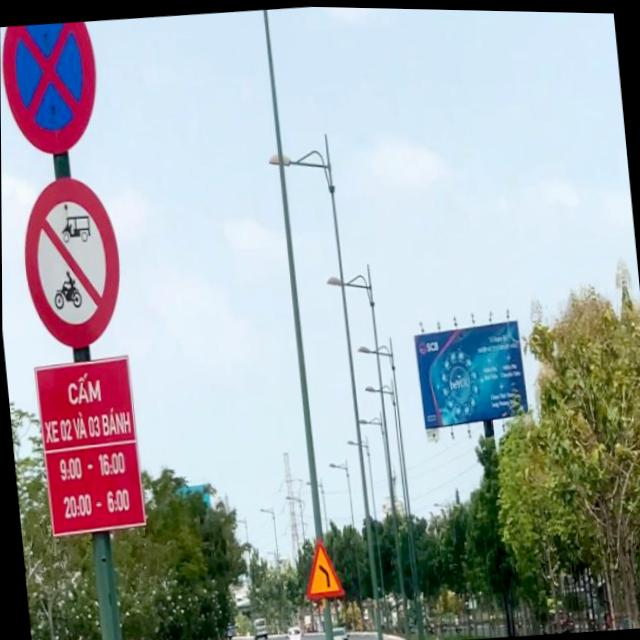Cam dung xe va do xe: (0, 18, 104, 159)
cho ngoat nguy hiem vong ben trai: (299, 533, 345, 599)
